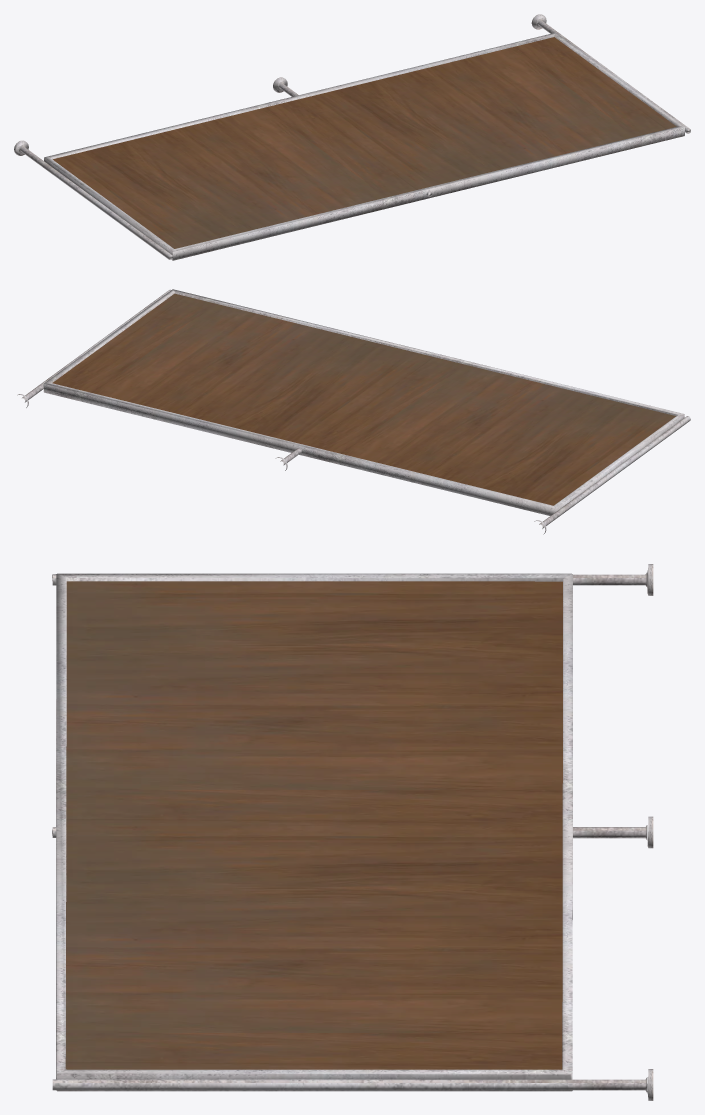
File: cubicle_wall_300.glb
3 views of the same model, one above another, from view 1: azimuth 30°, elevation 25°; view 2: azimuth 150°, elevation 25°; view 3: azimuth 270°, elevation 25° (orthographic). The views are drawn at different scales.
Parts seen in each view (by area): view 1: cubicle_wall_300; view 2: cubicle_wall_300; view 3: cubicle_wall_300.
Part boxes in pixels (x1=…): cubicle_wall_300: x1=14, y1=14, x2=690, y2=260; cubicle_wall_300: x1=17, y1=289, x2=690, y2=534; cubicle_wall_300: x1=52, y1=564, x2=653, y2=1100.
Bounding box in the file's own units: 3.08 × 0.0801 × 1.51.
1 material, 1 textured.
